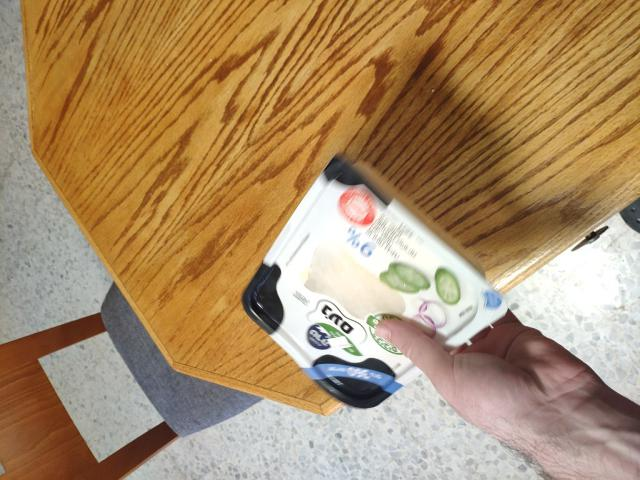cheese: (245, 191, 486, 374)
